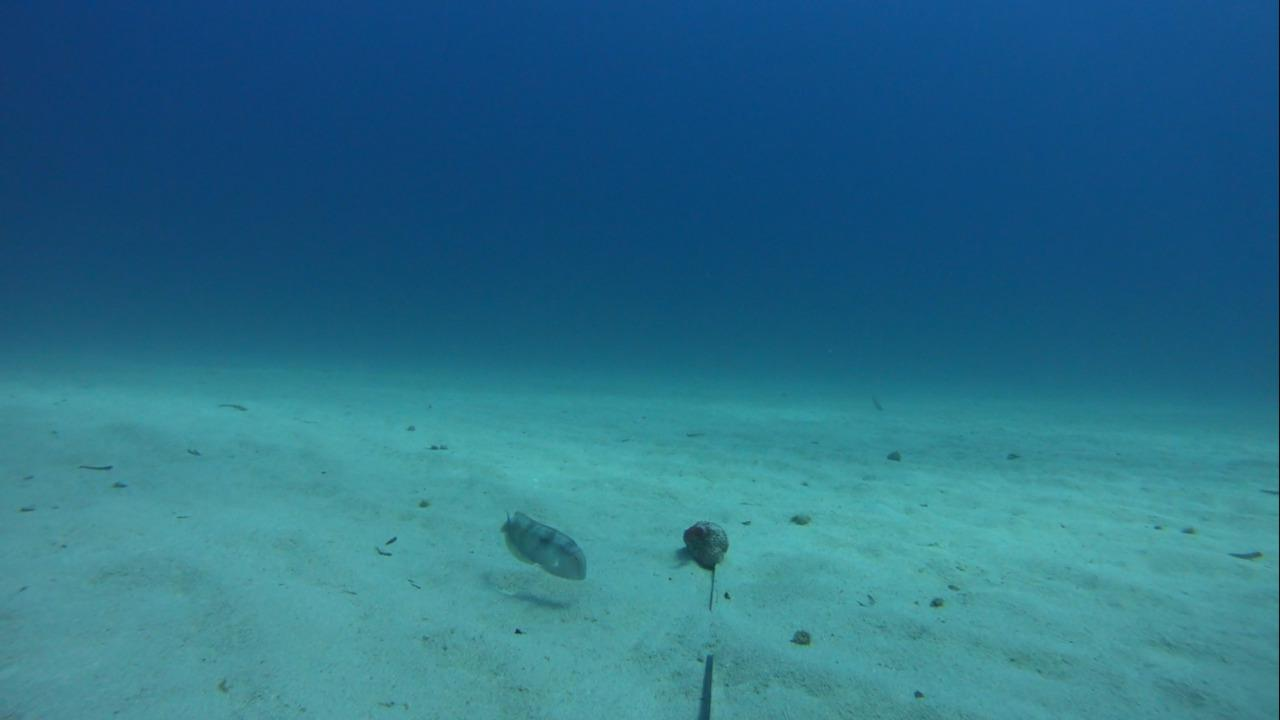raor: (490, 506, 589, 586)
